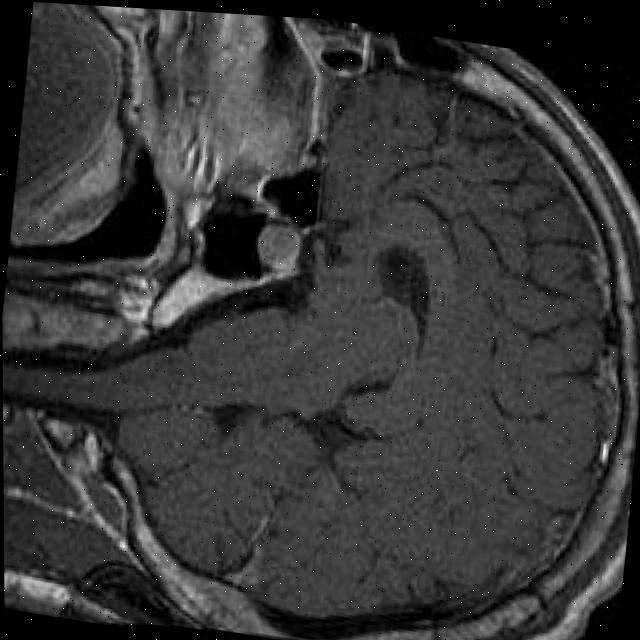Pituitary: (254, 222, 305, 274)
